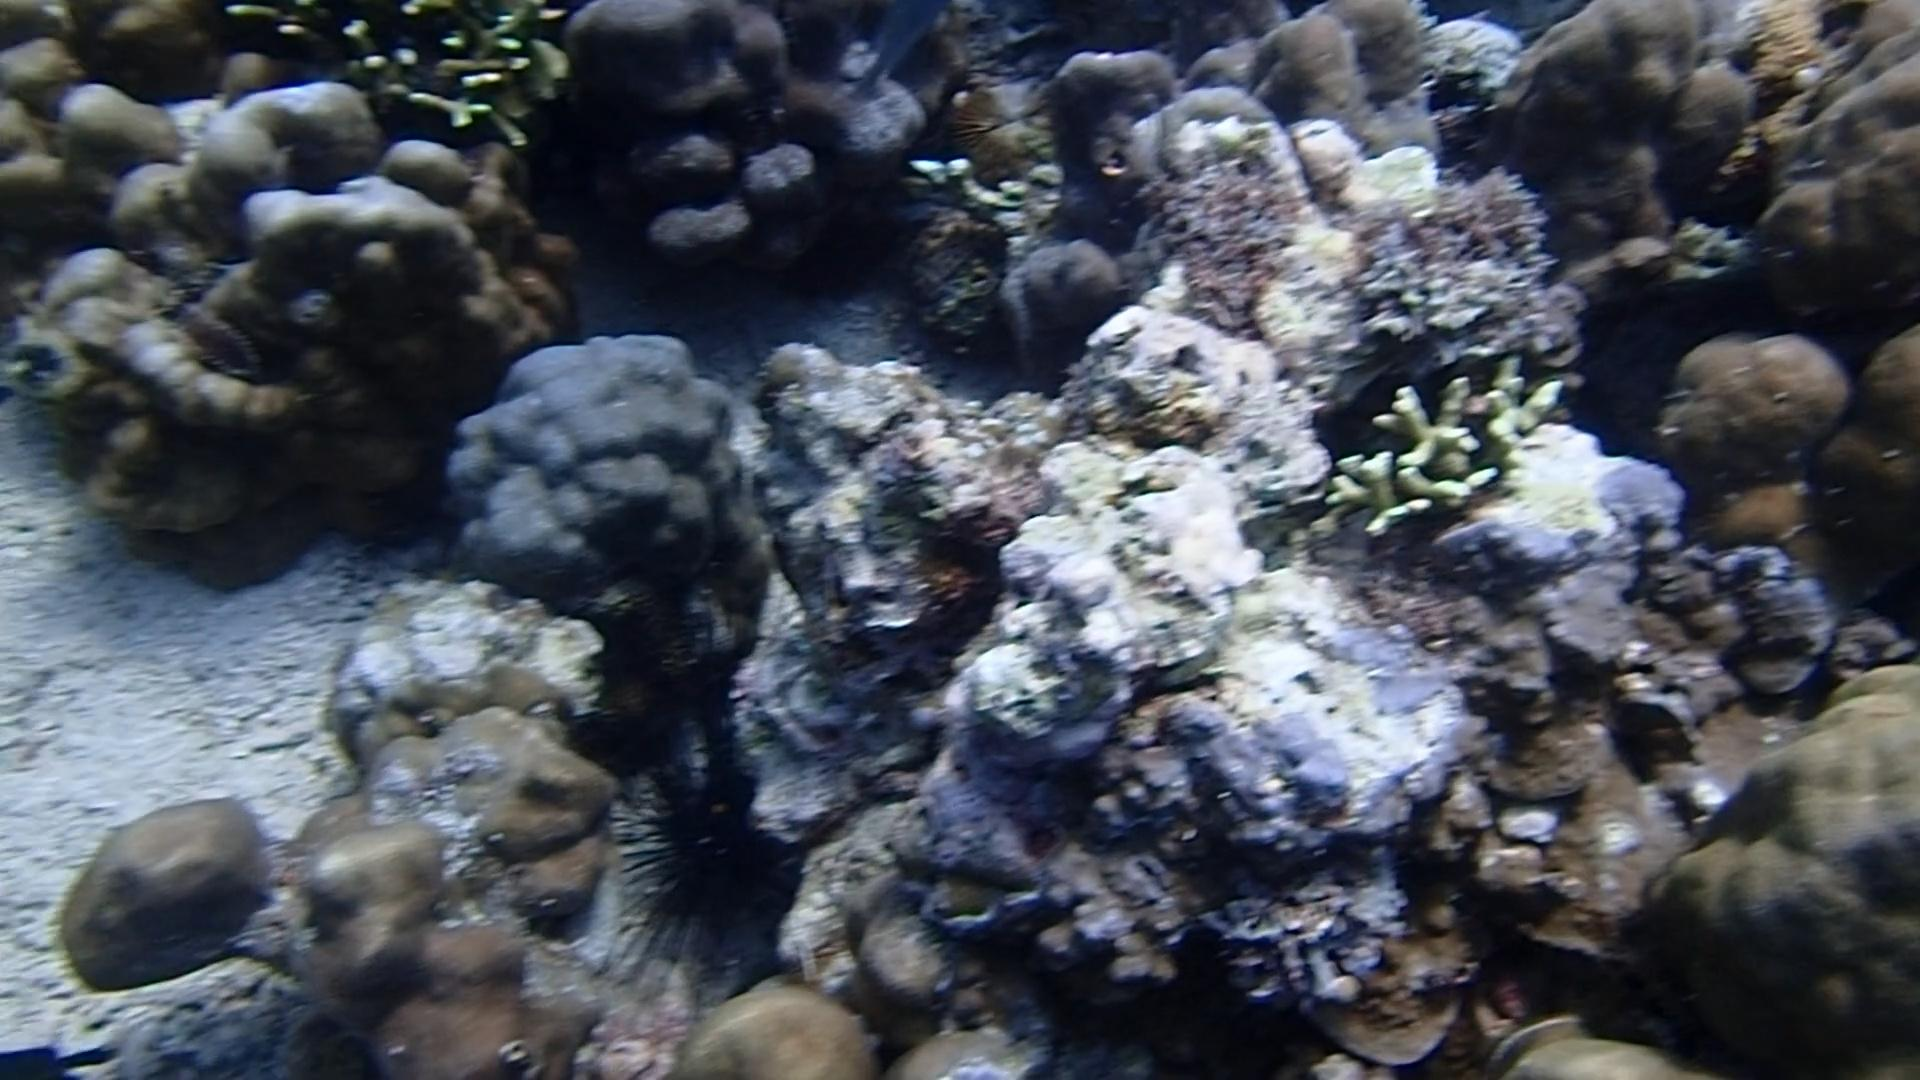Blue Fish Two: (853, 0, 949, 102)
Dark Fish: (0, 1021, 113, 1080)
